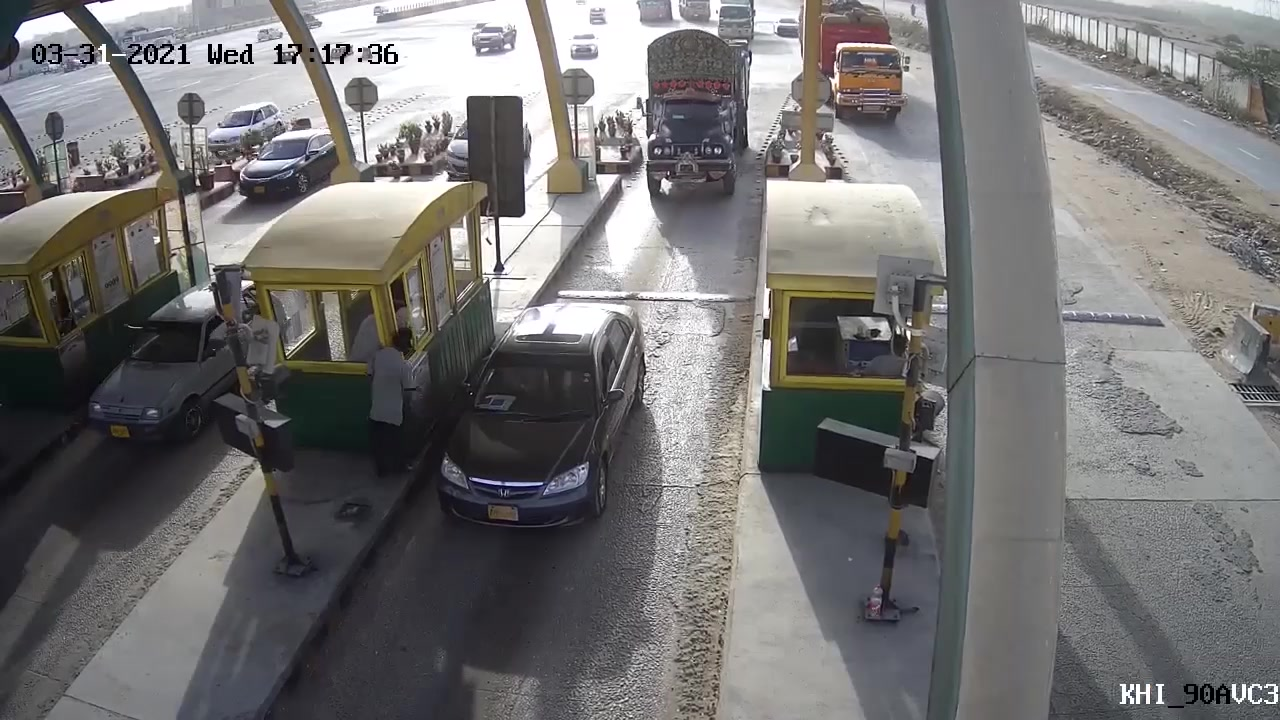F1: (429, 298, 650, 544)
F5: (633, 26, 753, 197)
